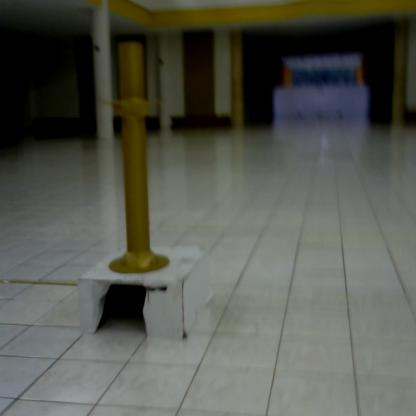pole: (99, 39, 181, 279)
